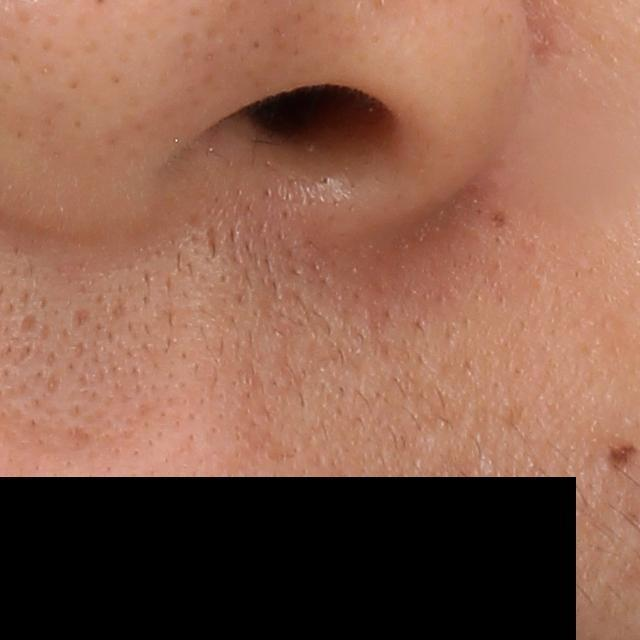atrophic_scar: (69, 302, 98, 334), (17, 312, 44, 338), (41, 372, 62, 395)
